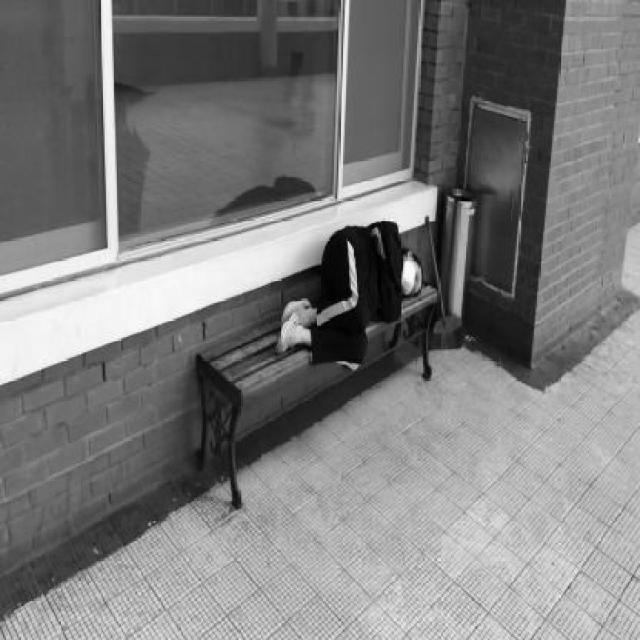person: (273, 218, 421, 368)
